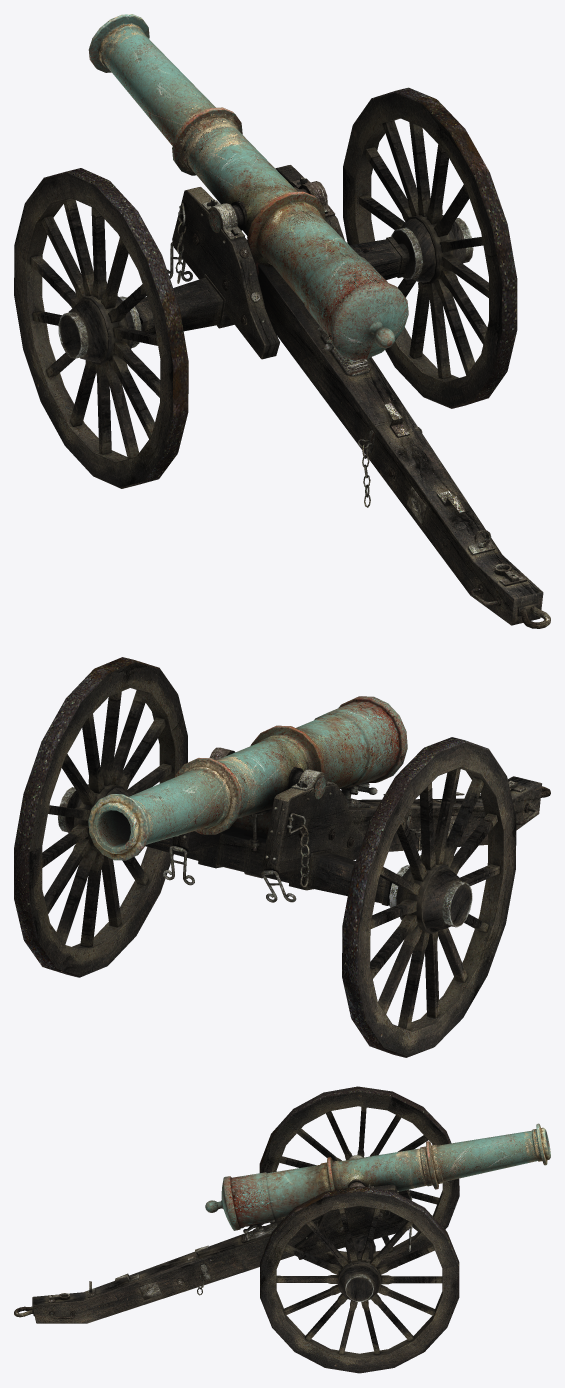
The model's file is Canon.dae.
3 views of the same model, one above another, from view 1: azimuth 30°, elevation 25°; view 2: azimuth 150°, elevation 25°; view 3: azimuth 270°, elevation 25° (orthographic). The views are drawn at different scales.
Parts seen in each view (by area): view 1: Cannon; view 2: Cannon; view 3: Cannon.
Boxes of the visible parts, x1=… form: Cannon: x1=14, y1=14, x2=550, y2=628; Cannon: x1=14, y1=657, x2=550, y2=1057; Cannon: x1=14, y1=1086, x2=550, y2=1373.
Bounding box in the file's own units: 6.01 × 11.47 × 4.63.
